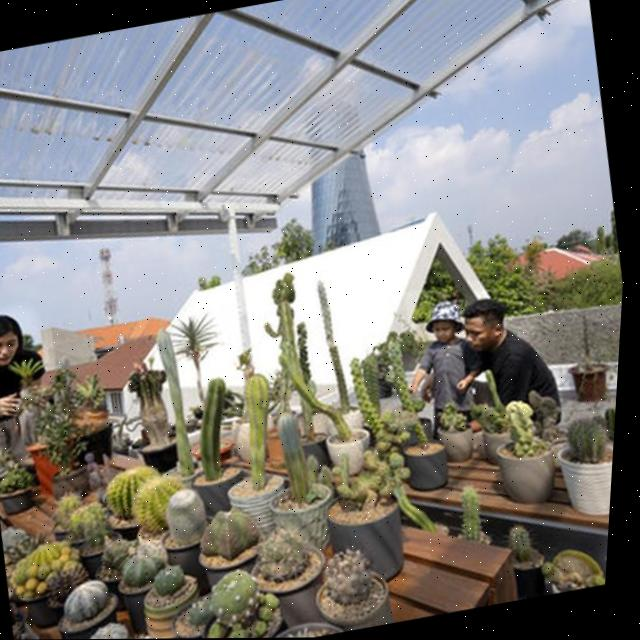building: (102, 201, 514, 438)
